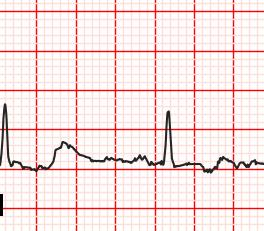LVH: (44, 138, 96, 167)
